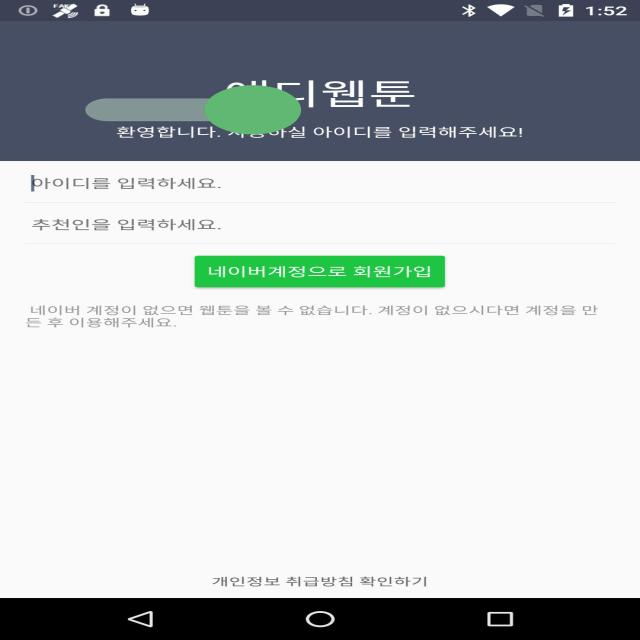social proof: (85, 55, 301, 165)
